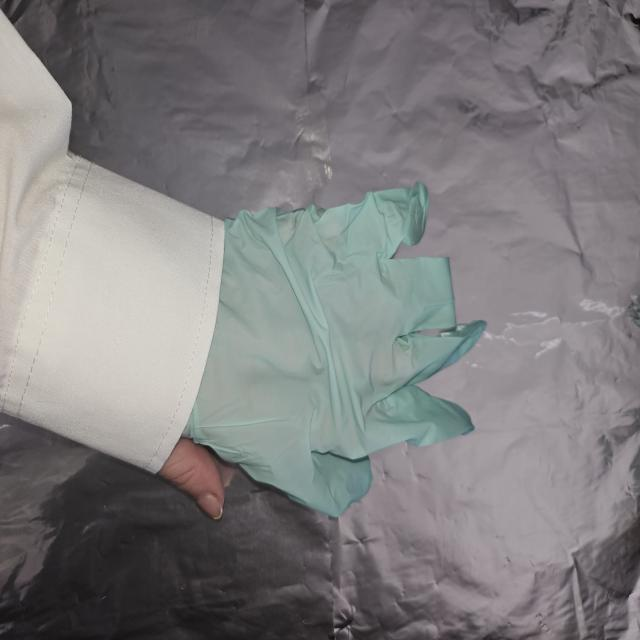glove_partial: (156, 182, 486, 521)
